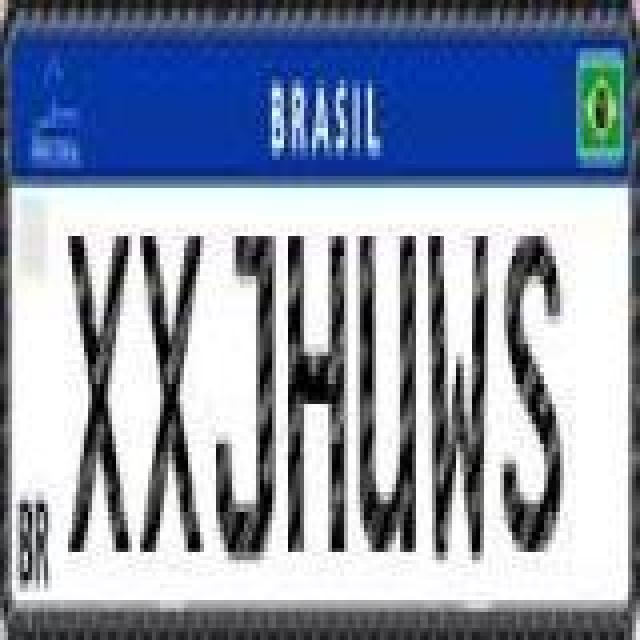H: (284, 230, 348, 554)
J: (216, 232, 280, 568)
S: (500, 230, 564, 554)
U: (358, 230, 418, 554)
W: (424, 232, 488, 568)
X: (66, 230, 134, 554), (138, 230, 206, 554)
